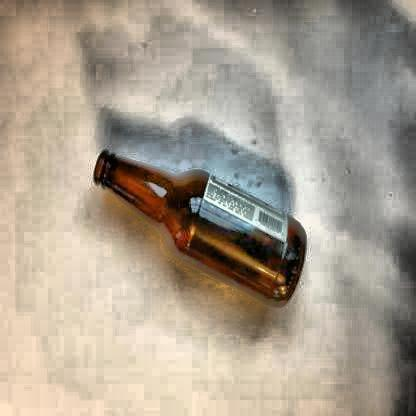Glass wastes: (87, 140, 314, 313)
